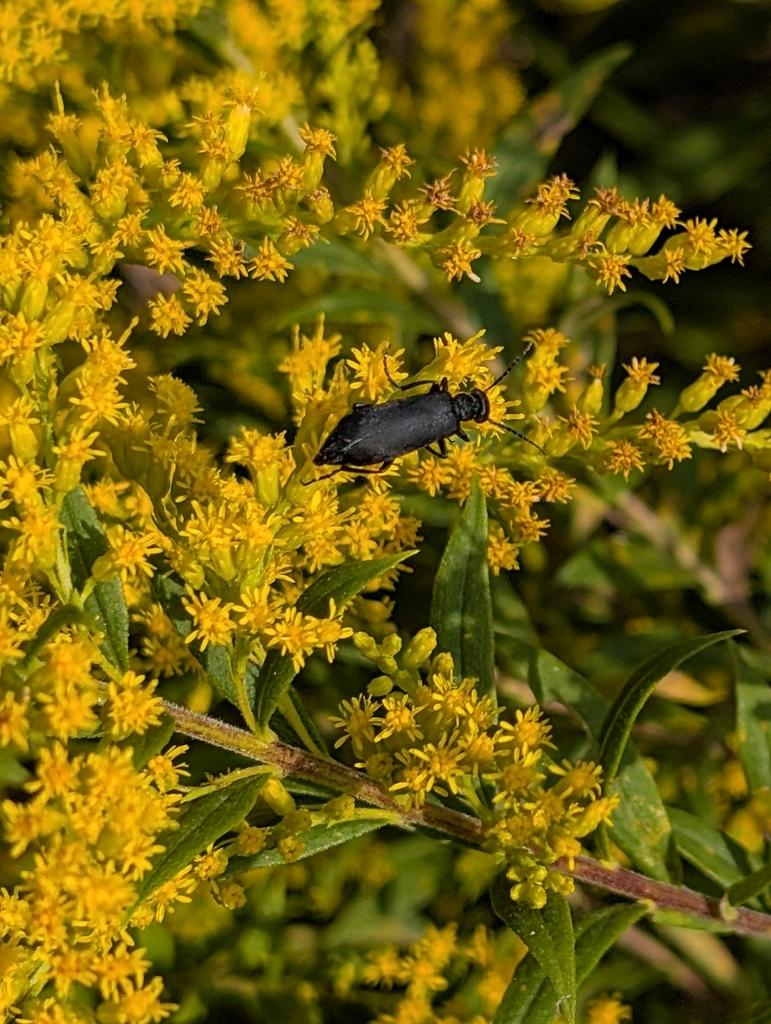blister_beetle: (289, 322, 579, 522)
